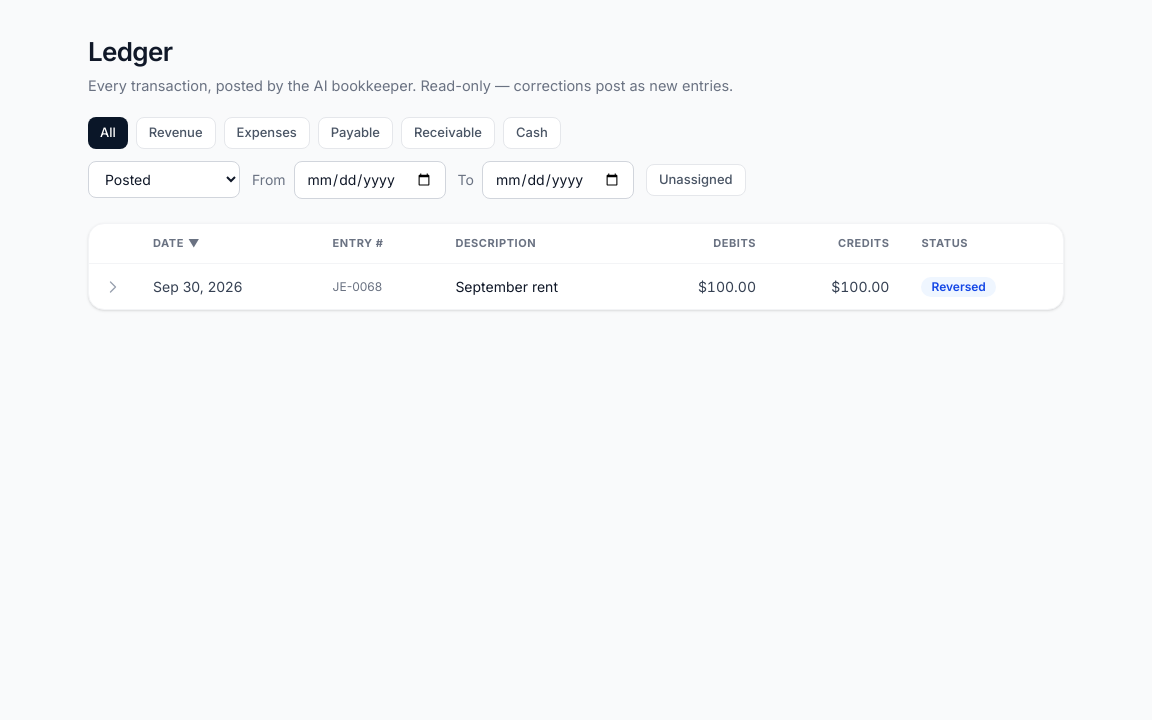
Scenario: owner ledger — Assign on the live entry only (D-S85-13) › offers no Assign on an unattributed reversed entry; it shows its link and its chain
Click the text "JE-0068".
click(378, 287)  # box [317, 264, 439, 310]
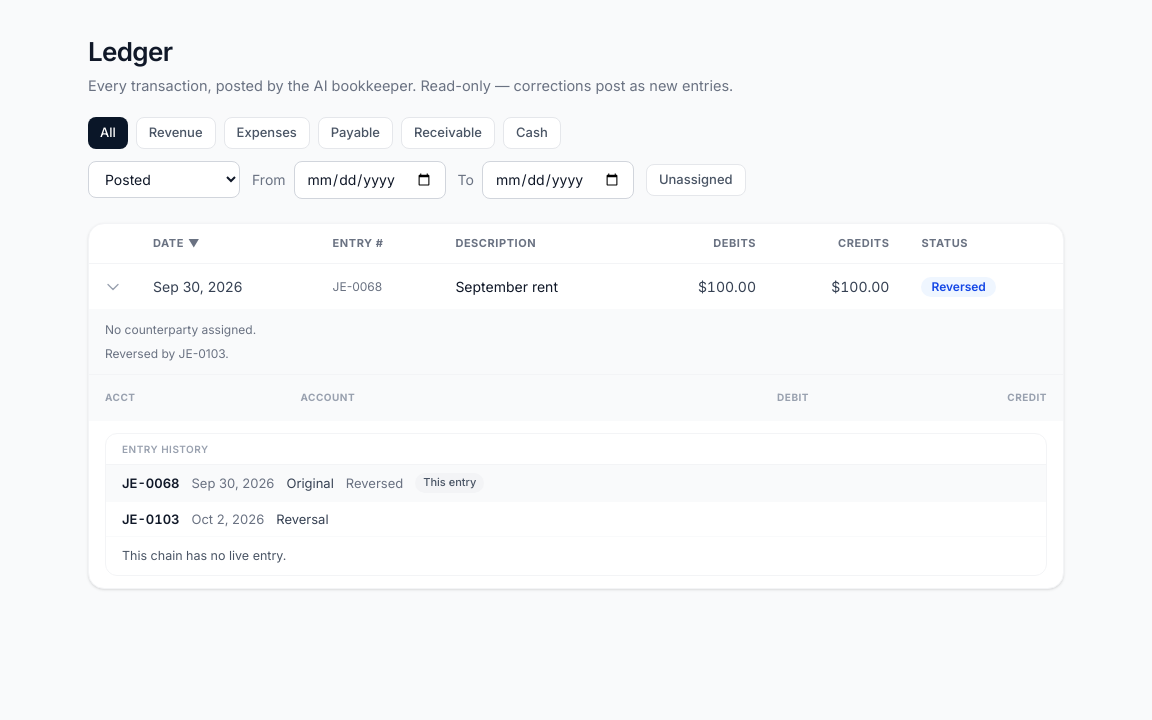
Expected: the element "Entry history" is shown, [105, 433, 1047, 576]
Expected: the text "Reversed by JE-0103." is shown, [105, 346, 229, 362]
